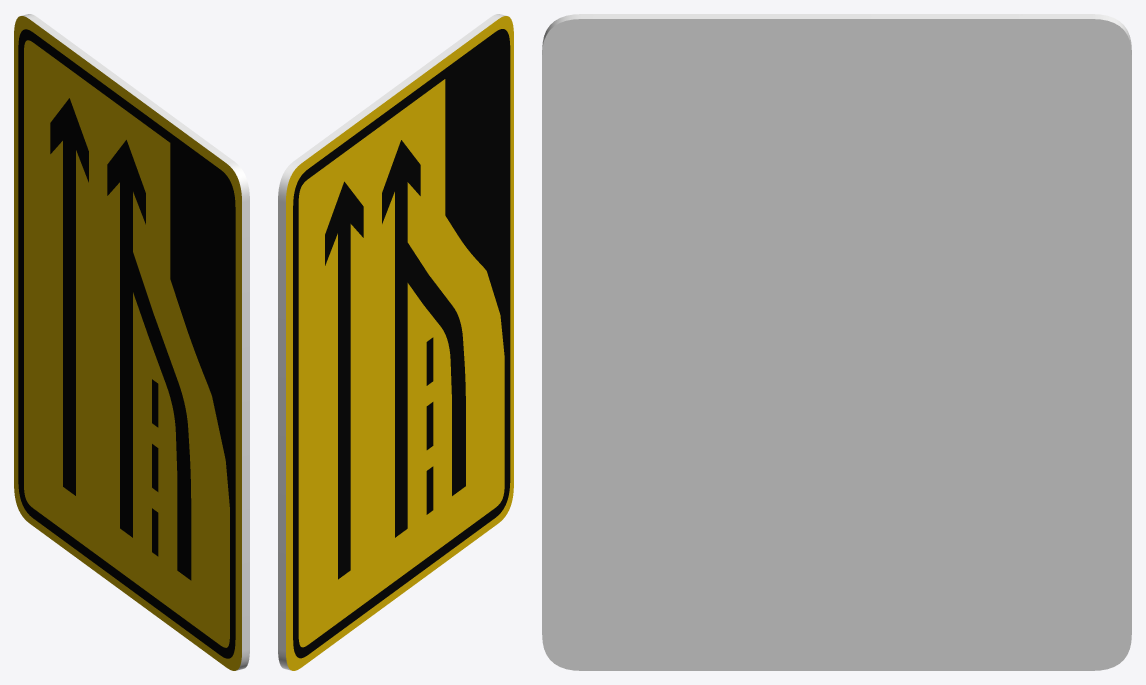
The model's file is Attention_Lane_Reduction_Ahead_1.fbx.
3 views of the same model, side by side, from view 1: azimuth 30°, elevation 25°; view 2: azimuth 150°, elevation 25°; view 3: azimuth 270°, elevation 25° (orthographic). The views are drawn at different scales.
Visible parts, largest first — view 1: Attention_Lane_Reduction_Ahead_1; view 2: Attention_Lane_Reduction_Ahead_1; view 3: Attention_Lane_Reduction_Ahead_1.
Part boxes in pixels (x1=…): Attention_Lane_Reduction_Ahead_1: x1=14, y1=14, x2=249, y2=670; Attention_Lane_Reduction_Ahead_1: x1=278, y1=14, x2=513, y2=670; Attention_Lane_Reduction_Ahead_1: x1=542, y1=14, x2=1131, y2=670.
Size of the model in its own units: 0.0354 by 1.83 by 1.5.
